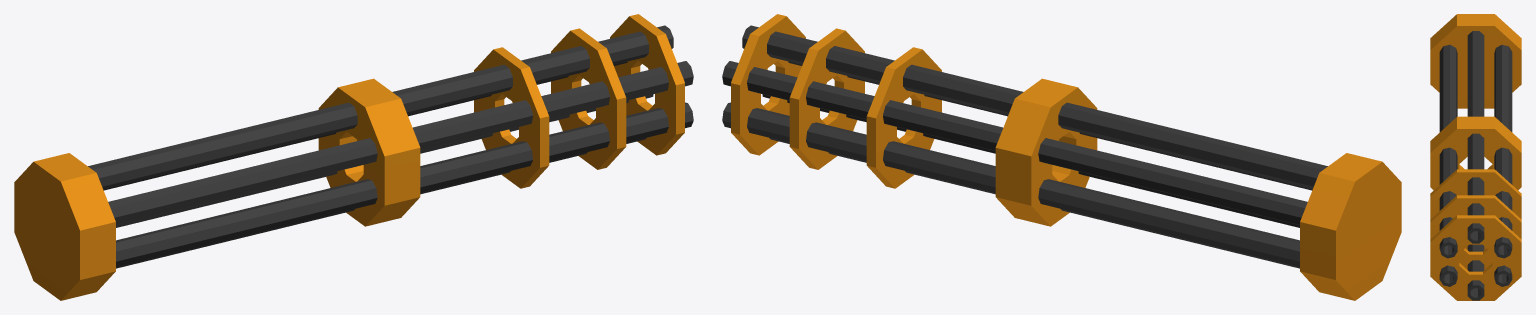
Rendered from LMG1_05_2.fbx.
3 renders of one model, left to right at view 1: azimuth 30°, elevation 25°; view 2: azimuth 150°, elevation 25°; view 3: azimuth 270°, elevation 25°, orthographic. The views are drawn at different scales.
Visible parts, largest first — view 1: LMG1_05_2; view 2: LMG1_05_2; view 3: LMG1_05_2.
Part boxes in pixels (bbox=[...]): LMG1_05_2: bbox=[14, 14, 693, 300]; LMG1_05_2: bbox=[722, 14, 1401, 300]; LMG1_05_2: bbox=[1430, 14, 1521, 300].
Bounding box in the file's own units: 0.8235 × 0.1514 × 0.1514.
